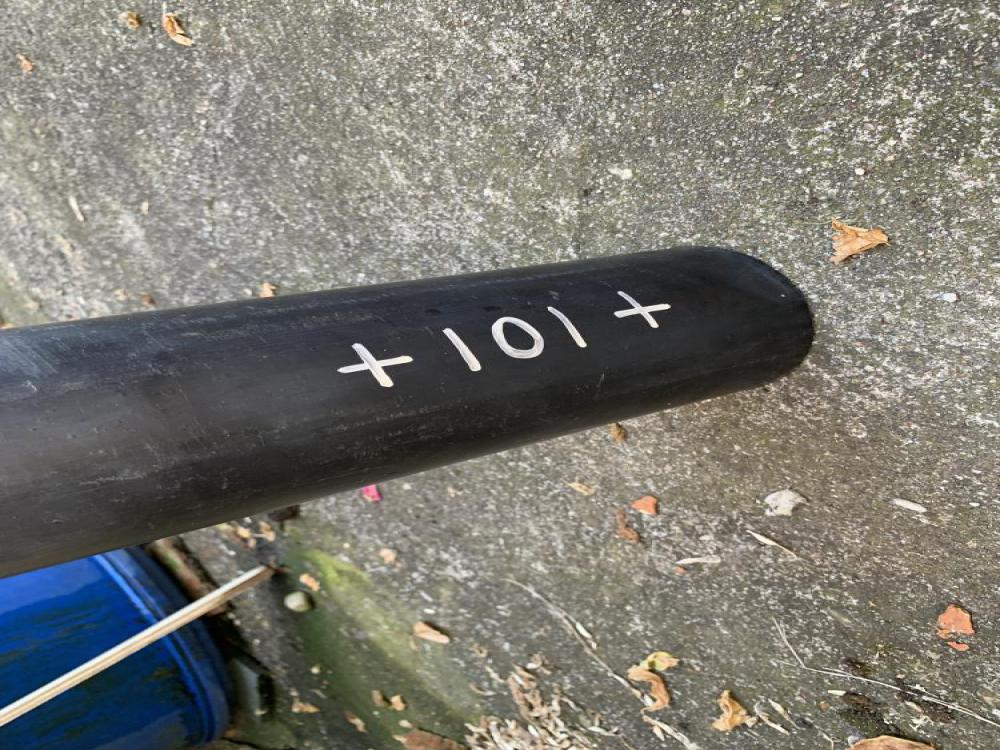+: (340, 343, 412, 388), (614, 290, 671, 329)
0: (493, 316, 544, 359)
1: (441, 327, 484, 373), (545, 306, 588, 350)
